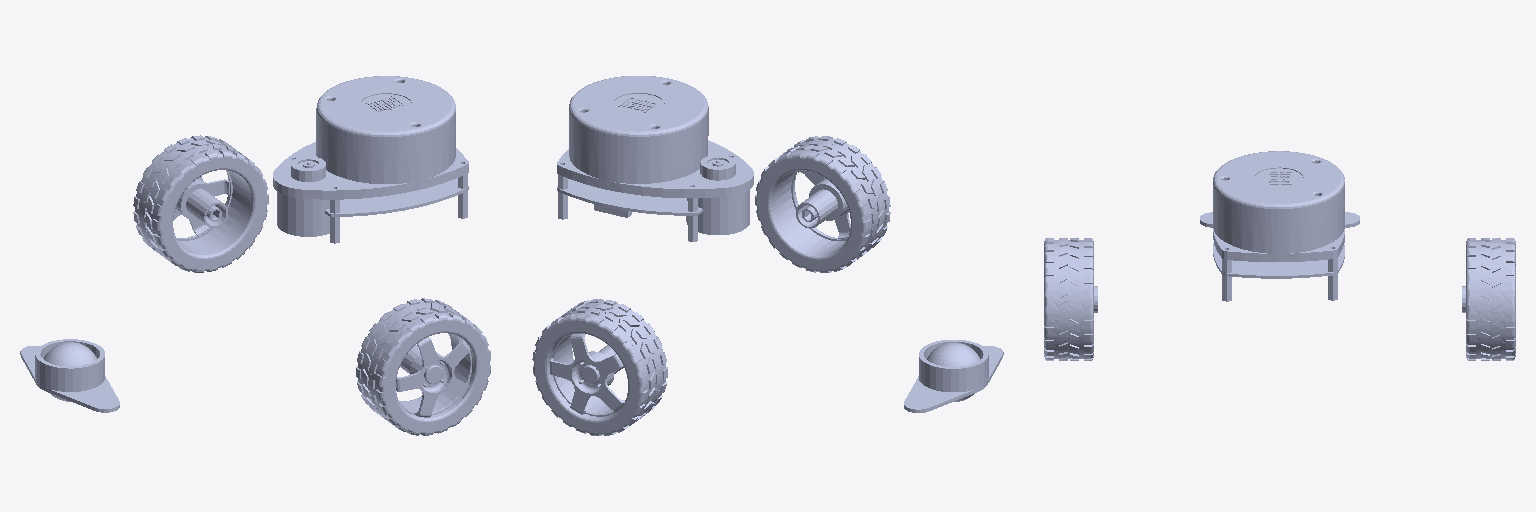
URDF robot description (robot.urdf):
<?xml version="1.0" encoding="utf-8"?>
<!-- This URDF was automatically created by SolidWorks to URDF Exporter! Originally created by [author] ([email redacted]) 
     Commit Version: 1.6.0-4-g7f85cfe  Build Version: 1.6.7995.38578
     For more information, please see http://wiki.ros.org/sw_urdf_exporter -->
<robot
  name="robot.urdf">
  <link
    name="base_link">
    <inertial>
      <origin
        xyz="0.0076247000056022 1.03409780738417E-11 0.0494159060031512"
        rpy="0 0 0" />
      <mass
        value="0.724539308134276" />
      <inertia
        ixx="0.00392524953392196"
        ixy="-3.37182308102671E-11"
        ixz="0.000128556224286988"
        iyy="0.0065404312440558"
        iyz="-2.68121054912136E-17"
        izz="0.00775130913744" />
    </inertial>
    <visual>
      <origin
        xyz="0 0 0"
        rpy="0 0 0" />
      <geometry>
        <mesh
          filename="package://robot.urdf/meshes/base_link.STL" />
      </geometry>
      <material
        name="">
        <color
          rgba="0.250980392156863 0.250980392156863 0.250980392156863 1" />
      </material>
    </visual>
    <collision>
      <origin
        xyz="0 0 0"
        rpy="0 0 0" />
      <geometry>
        <mesh
          filename="package://robot.urdf/meshes/base_link.STL" />
      </geometry>
    </collision>
  </link>
  <link
    name="right_wheel">
    <inertial>
      <origin
        xyz="1.0266E-05 1.2863E-07 -0.01031"
        rpy="0 0 0" />
      <mass
        value="0.029734" />
      <inertia
        ixx="1.2291E-05"
        ixy="2.7737E-10"
        ixz="5.2502E-12"
        iyy="1.2291E-05"
        iyz="-2.757E-11"
        izz="2.0378E-05" />
    </inertial>
    <visual>
      <origin
        xyz="0 0 0"
        rpy="0 0 0" />
      <geometry>
        <mesh
          filename="package://robot.urdf/meshes/right_wheel.STL" />
      </geometry>
      <material
        name="">
        <color
          rgba="0.79216 0.81961 0.93333 1" />
      </material>
    </visual>
    <collision>
      <origin
        xyz="0 0 0"
        rpy="0 0 0" />
      <geometry>
        <mesh
          filename="package://robot.urdf/meshes/right_wheel.STL" />
      </geometry>
    </collision>
  </link>
  <joint
    name="right_wheel_joint"
    type="continuous">
    <origin
      xyz="0.043261 -0.1225 0.02"
      rpy="1.5708 0 0" />
    <parent
      link="base_link" />
    <child
      link="right_wheel" />
    <axis
      xyz="0 0 1" />
    <dynamics
      damping="0.1"
      friction="0.1" />
  </joint>
  <link
    name="left_wheel">
    <inertial>
      <origin
        xyz="-1.0266E-05 1.2863E-07 0.01031"
        rpy="0 0 0" />
      <mass
        value="0.029734" />
      <inertia
        ixx="1.2291E-05"
        ixy="-2.7737E-10"
        ixz="5.2502E-12"
        iyy="1.2291E-05"
        iyz="2.757E-11"
        izz="2.0378E-05" />
    </inertial>
    <visual>
      <origin
        xyz="0 0 0"
        rpy="0 0 0" />
      <geometry>
        <mesh
          filename="package://robot.urdf/meshes/left_wheel.STL" />
      </geometry>
      <material
        name="">
        <color
          rgba="0.79216 0.81961 0.93333 1" />
      </material>
    </visual>
    <collision>
      <origin
        xyz="0 0 0"
        rpy="0 0 0" />
      <geometry>
        <mesh
          filename="package://robot.urdf/meshes/left_wheel.STL" />
      </geometry>
    </collision>
  </link>
  <joint
    name="left_wheel_joint"
    type="continuous">
    <origin
      xyz="0.043282 0.1225 0.02"
      rpy="1.5708 0 0" />
    <parent
      link="base_link" />
    <child
      link="left_wheel" />
    <axis
      xyz="0 0 1" />
    <dynamics
      damping="0.1"
      friction="0.1" />
  </joint>
  <link
    name="caster_wheel">
    <inertial>
      <origin
        xyz="0 6.38658704137651E-05 -5.55111512312578E-17"
        rpy="0 0 0" />
      <mass
        value="0.0200390403286075" />
      <inertia
        ixx="2.00498263003566E-06"
        ixy="-2.27274165753216E-22"
        ixz="-7.07517105096922E-22"
        iyy="3.94896715060734E-06"
        iyz="5.73500181888699E-23"
        izz="3.47493517136594E-06" />
    </inertial>
    <visual>
      <origin
        xyz="0 0 0"
        rpy="0 0 0" />
      <geometry>
        <mesh
          filename="package://robot.urdf/meshes/caster_wheel.STL" />
      </geometry>
      <material
        name="">
        <color
          rgba="0.792156862745098 0.819607843137255 0.933333333333333 1" />
      </material>
    </visual>
    <collision>
      <origin
        xyz="0 0 0"
        rpy="0 0 0" />
      <geometry>
        <mesh
          filename="package://robot.urdf/meshes/caster_wheel.STL" />
      </geometry>
    </collision>
  </link>
  <joint
    name="caster_wheel_joint"
    type="continuous">
    <origin
      xyz="-0.096728 0 0.005"
      rpy="1.5708 0 1.5708" />
    <parent
      link="base_link" />
    <child
      link="caster_wheel" />
    <axis
      xyz="0 0 1" />
    <dynamics
      damping="0.1"
      friction="0.1" />
  </joint>
  <link
    name="link_ydlidar">
    <inertial>
      <origin
        xyz="0.0074834698833364 0.0106681277328403 -9.19261110875341E-05"
        rpy="0 0 0" />
      <mass
        value="1.33076913637071" />
      <inertia
        ixx="0.00061491794045409"
        ixy="-0.00015824302591117"
        ixz="8.01984318974422E-07"
        iyy="0.00109815200027136"
        iyz="-3.09162986587591E-06"
        izz="0.000960697335617222" />
    </inertial>
    <visual>
      <origin
        xyz="0 0 0"
        rpy="0 0 0" />
      <geometry>
        <mesh
          filename="package://robot.urdf/meshes/link_ydlidar.STL" />
      </geometry>
      <material
        name="">
        <color
          rgba="0.792156862745098 0.819607843137255 0.933333333333333 1" />
      </material>
    </visual>
    <collision>
      <origin
        xyz="0 0 0"
        rpy="0 0 0" />
      <geometry>
        <mesh
          filename="package://robot.urdf/meshes/link_ydlidar.STL" />
      </geometry>
    </collision>
  </link>
  <joint
    name="joint_ydlidar"
    type="fixed">
    <origin
      xyz="0.071461 -0.00080282 0.0776"
      rpy="1.5708 0 0.019092" />
    <parent
      link="base_link" />
    <child
      link="link_ydlidar" />
    <axis
      xyz="0 0 0" />
    <dynamics
      damping="0.1"
      friction="0.1" />
  </joint>
</robot>

--- What the picture shows (computed from the rendered views, not written in the file) ---
The picture shows the robot from 3 angles, left to right: view 1: azimuth 30°, elevation 25°; view 2: azimuth 150°, elevation 25°; view 3: azimuth 270°, elevation 25°; orthographic projection.
Robot: robot.urdf — 5 links, 4 joints (3 continuous, 1 fixed); root link base_link; default pose: all joints at 0.
Visible links, largest first — view 1: link_ydlidar, right_wheel, left_wheel, caster_wheel; view 2: link_ydlidar, right_wheel, left_wheel, caster_wheel; view 3: link_ydlidar, right_wheel, left_wheel.
Link boxes in pixels (left/top/right/bottom): link_ydlidar: left=273, top=76, right=468, bottom=243; right_wheel: left=356, top=298, right=490, bottom=435; left_wheel: left=133, top=135, right=268, bottom=272; caster_wheel: left=20, top=339, right=119, bottom=412; link_ydlidar: left=557, top=76, right=753, bottom=241; right_wheel: left=755, top=136, right=890, bottom=272; left_wheel: left=532, top=299, right=667, bottom=435; caster_wheel: left=904, top=340, right=1003, bottom=412; link_ydlidar: left=1213, top=151, right=1344, bottom=301; right_wheel: left=1044, top=238, right=1097, bottom=360; left_wheel: left=1462, top=238, right=1515, bottom=360.
Bounding box of the posed robot: 0.2349 × 0.249 × 0.1232 m (x, y, z).
Meshes: 5 distinct files referenced, 4 mesh visuals loaded (4 binary STL); not drawn: 1 (reference not matched to a file when rendering).